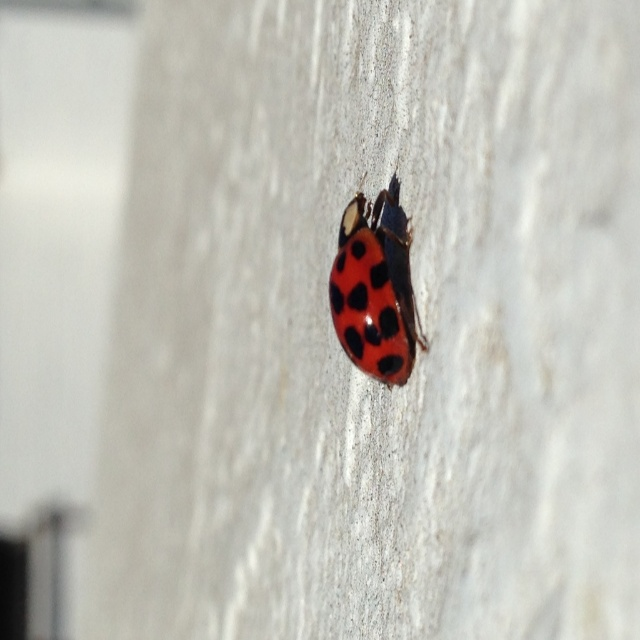Ladybug: (329, 173, 429, 388)
